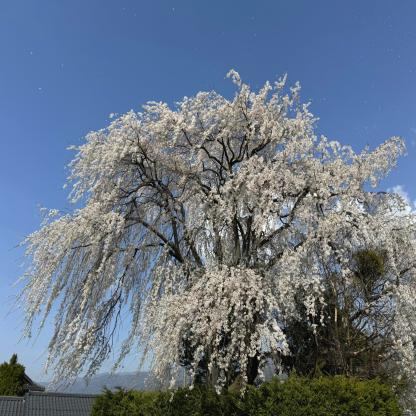ShidareZakura: (1, 67, 416, 401)
